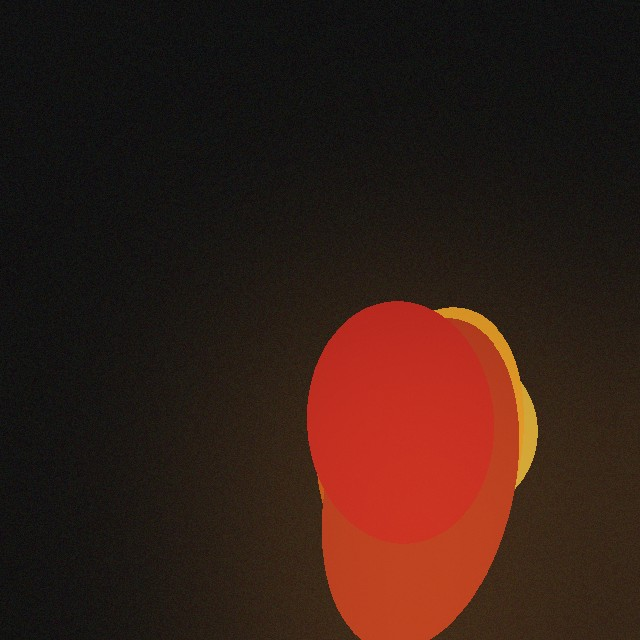fire: (269, 344, 555, 616)
